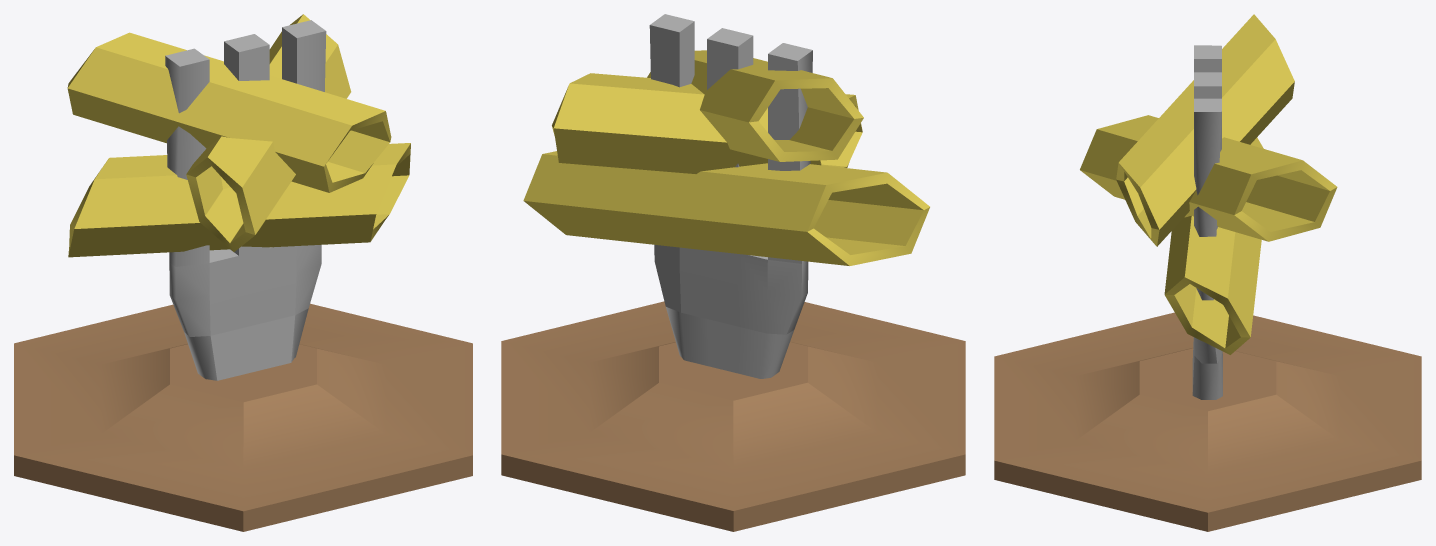
The model's file is penne hat.fbx.
3 renders of one model, left to right at view 1: azimuth 30°, elevation 25°; view 2: azimuth 150°, elevation 25°; view 3: azimuth 270°, elevation 25°, orthographic. The views are drawn at different scales.
Parts seen in each view (by area): view 1: polySurface643, polySurface641, polySurface642, polySurface644, polySurface640; view 2: polySurface643, polySurface644, polySurface641, polySurface640, polySurface642; view 3: polySurface643, polySurface642, polySurface640, polySurface644, polySurface641.
Part boxes in pixels (x1,y1,x2,y2): polySurface643: (14,303,472,531); polySurface641: (165,20,326,380); polySurface642: (67,32,391,192); polySurface644: (68,143,410,257); polySurface640: (186,14,351,251); polySurface643: (501,301,965,531); polySurface644: (523,151,929,265); polySurface641: (649,14,812,378); polySurface640: (552,73,862,173); polySurface642: (647,50,863,161); polySurface643: (994,312,1421,531); polySurface642: (1116,14,1294,246); polySurface640: (1080,115,1337,241); polySurface644: (1164,137,1263,354); polySurface641: (1192,45,1222,399).
Size of the model in its own units: 218 by 174 by 188.
Materials: 2 (2 with a texture image).
